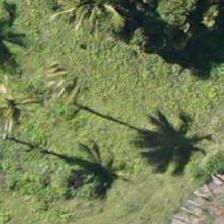coconut_tree: (0, 49, 59, 139)
